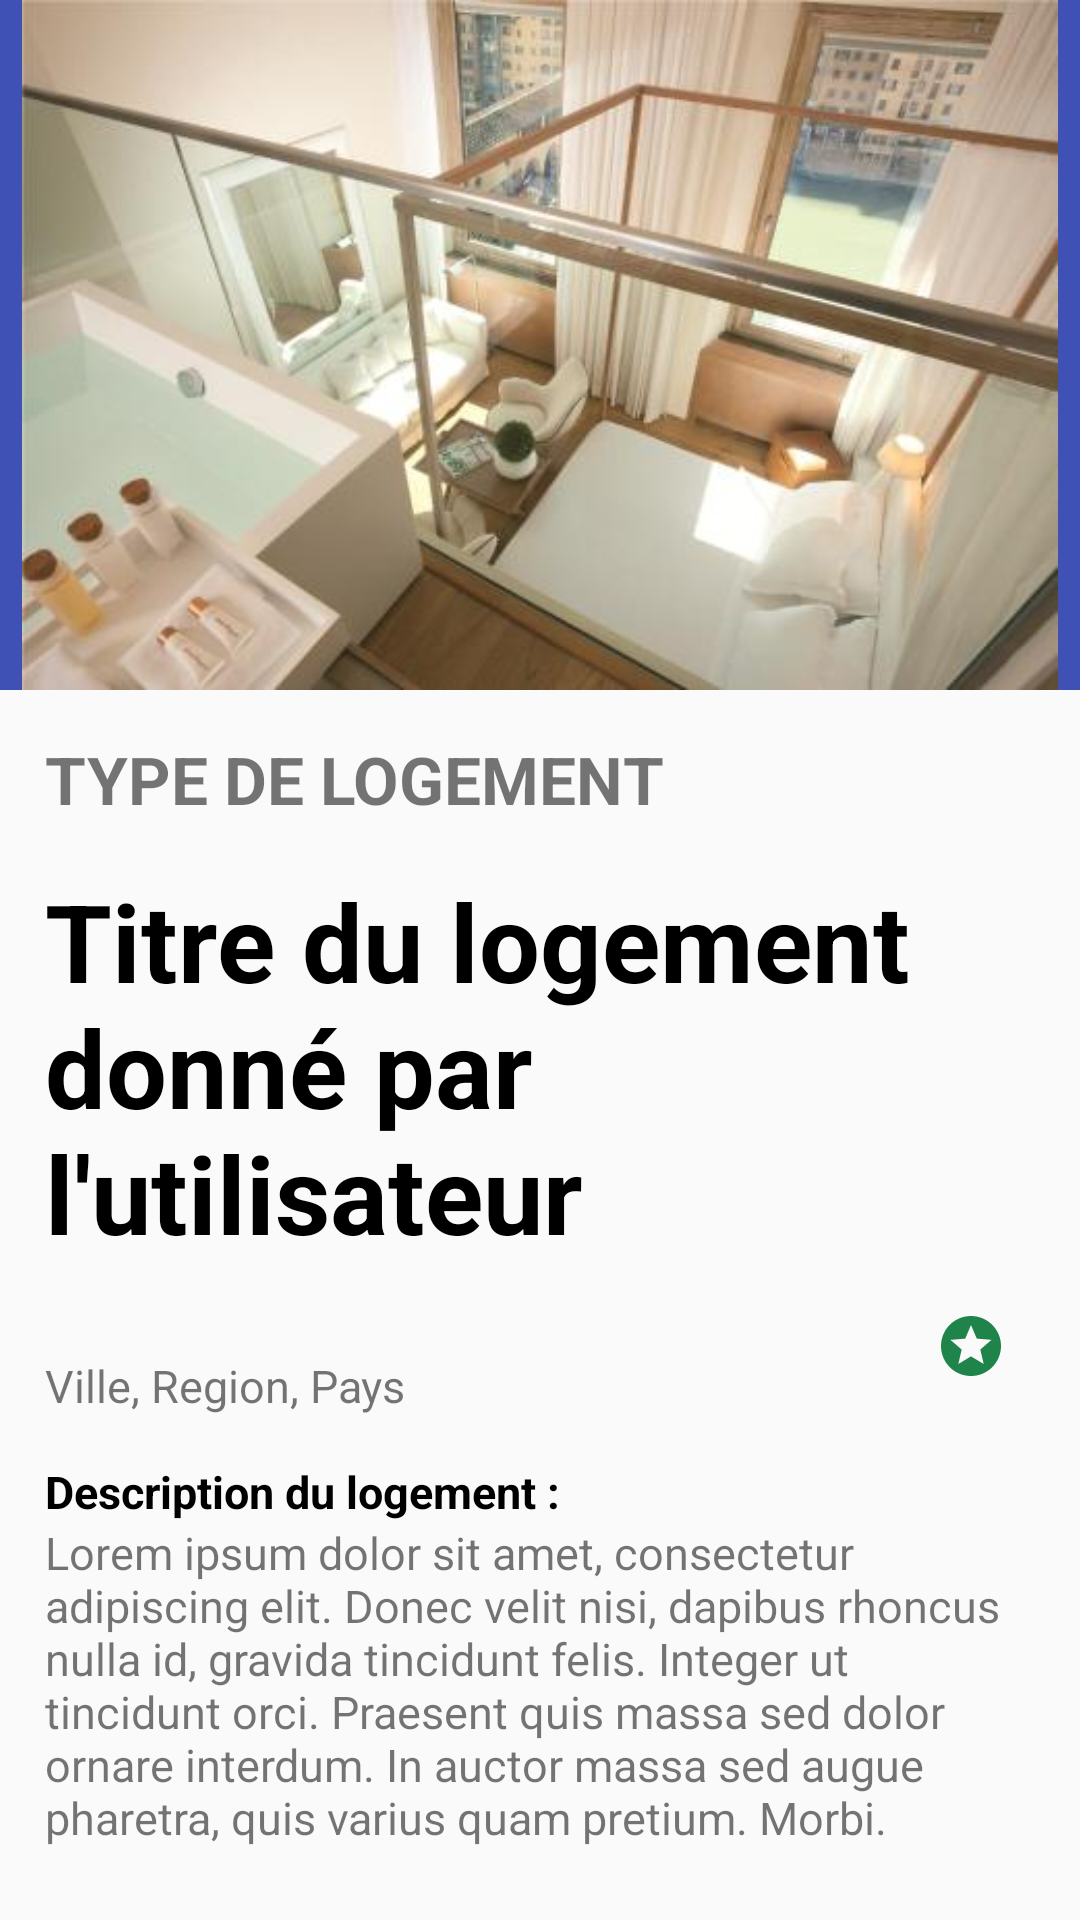

Screen size 1080×1920. Icon name, then its box in pixels as region(x1, y1, x2, y2):
stars: region(941, 1316, 1001, 1376)
